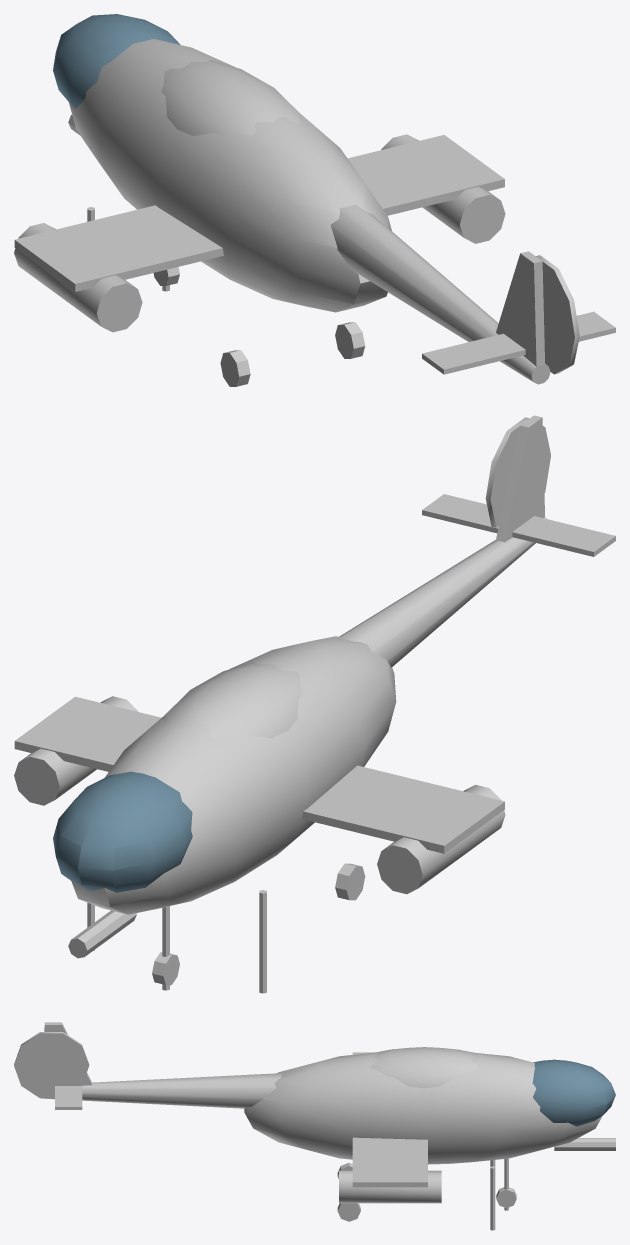
File: havoc.obj
The picture shows the model from 3 angles, top to bottom: view 1: azimuth 30°, elevation 25°; view 2: azimuth 150°, elevation 25°; view 3: azimuth 270°, elevation 25°; orthographic projection. The views are drawn at different scales.
Parts seen in each view (by area): view 1: model; view 2: model; view 3: model.
Part boxes in pixels (box(x1,y1,x2,y2)): model: box(14, 14, 615, 386); model: box(14, 415, 615, 993); model: box(14, 1022, 615, 1230).
Size of the model in its own units: 4.5 by 3 by 8.8.
